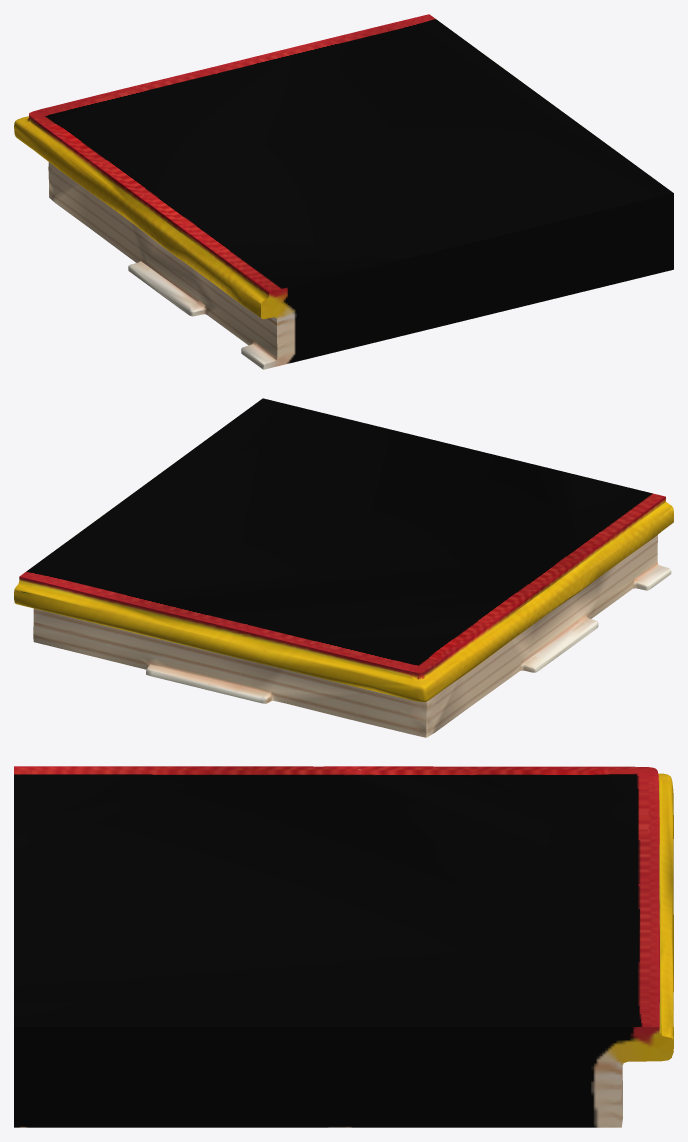
The model's file is 11-roof-back-left.fbx.
The picture shows the model from 3 angles, top to bottom: view 1: azimuth 30°, elevation 25°; view 2: azimuth 150°, elevation 25°; view 3: azimuth 270°, elevation 25°; orthographic projection. The views are drawn at different scales.
Parts seen in each view (by area): view 1: roof-back-left; view 2: roof-back-left; view 3: roof-back-left.
Boxes of the visible parts, x1=… form: roof-back-left: x1=14, y1=14, x2=673, y2=369; roof-back-left: x1=14, y1=398, x2=673, y2=737; roof-back-left: x1=14, y1=766, x2=673, y2=1127.
Size of the model in its own units: 4282 by 756 by 4488.
Materials: 1 (1 with a texture image).
